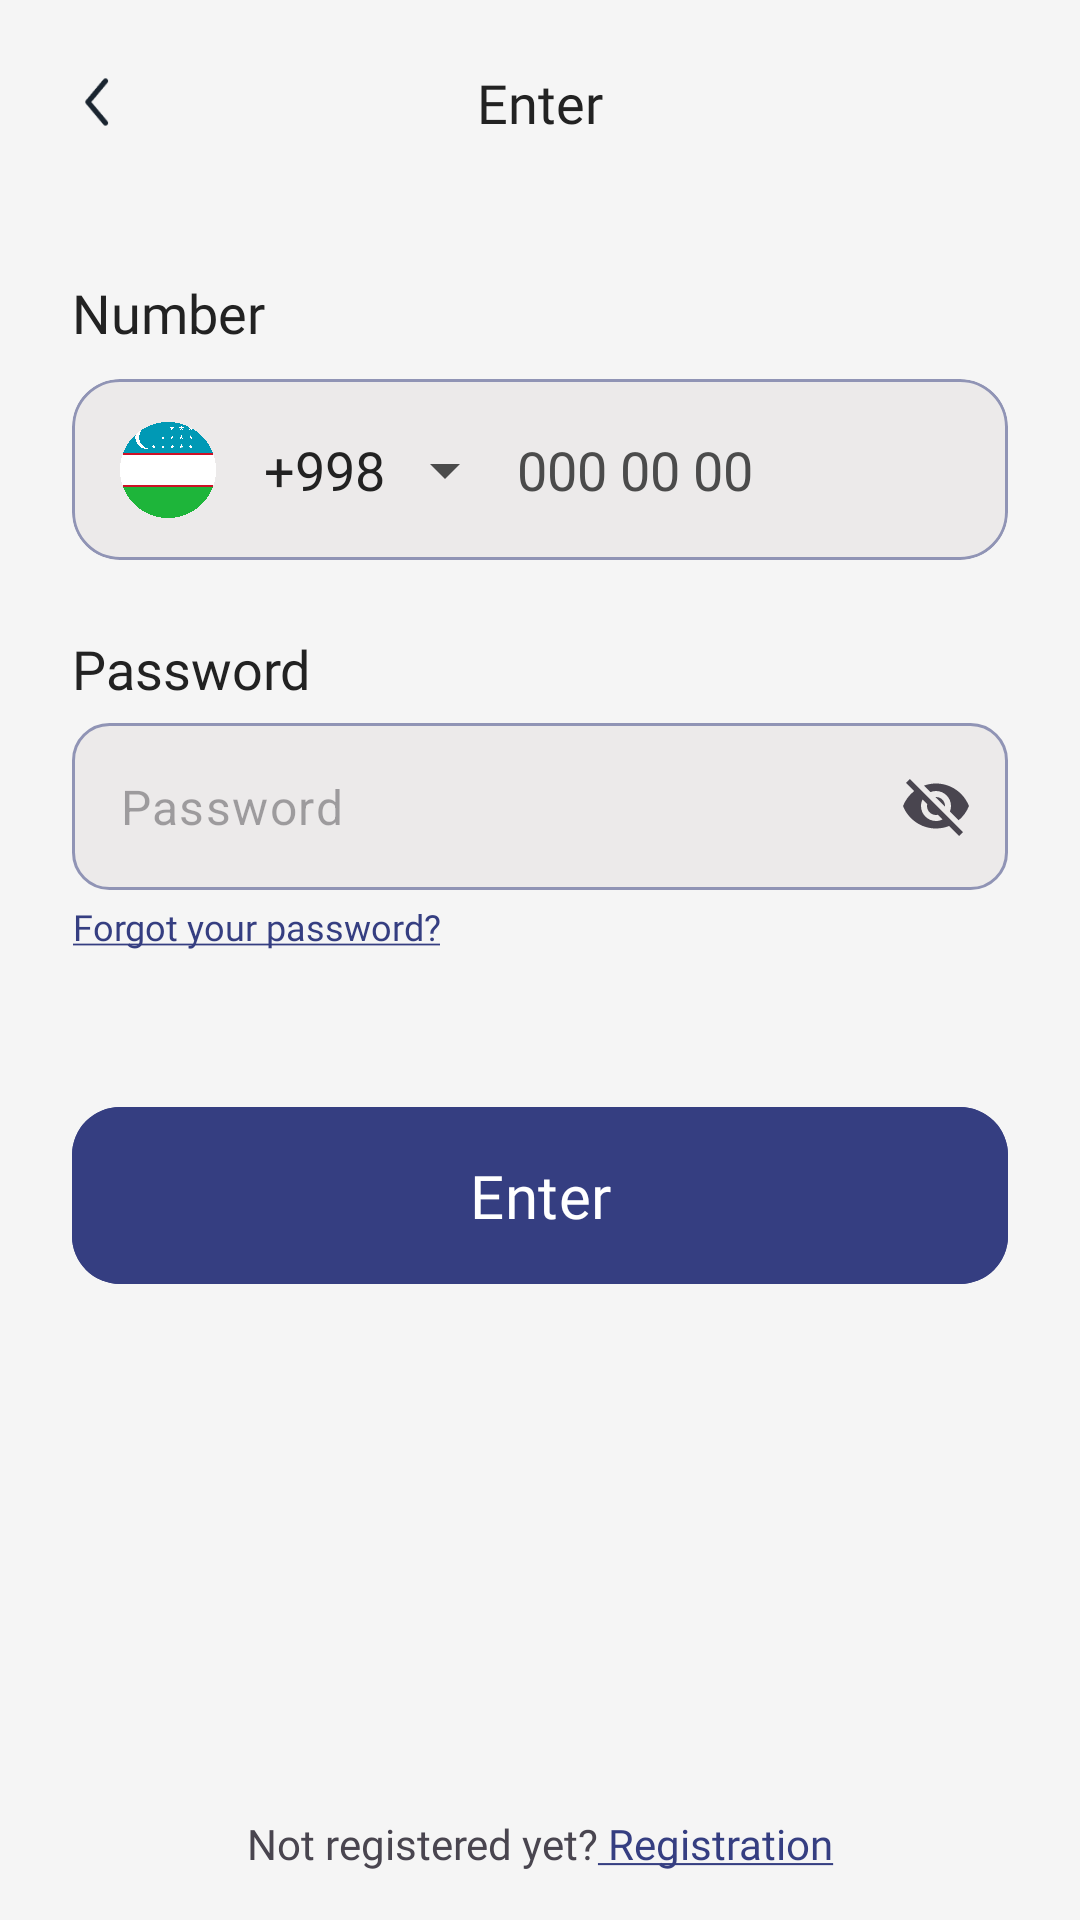

Named icons in this screenshot (1080w x 1920h) and their bounding boxes, box=[x1, y1, x2, y2]:
back: box=[85, 78, 108, 126]
drop down: box=[430, 464, 460, 479]
pic flag uzb: box=[120, 422, 216, 518]
